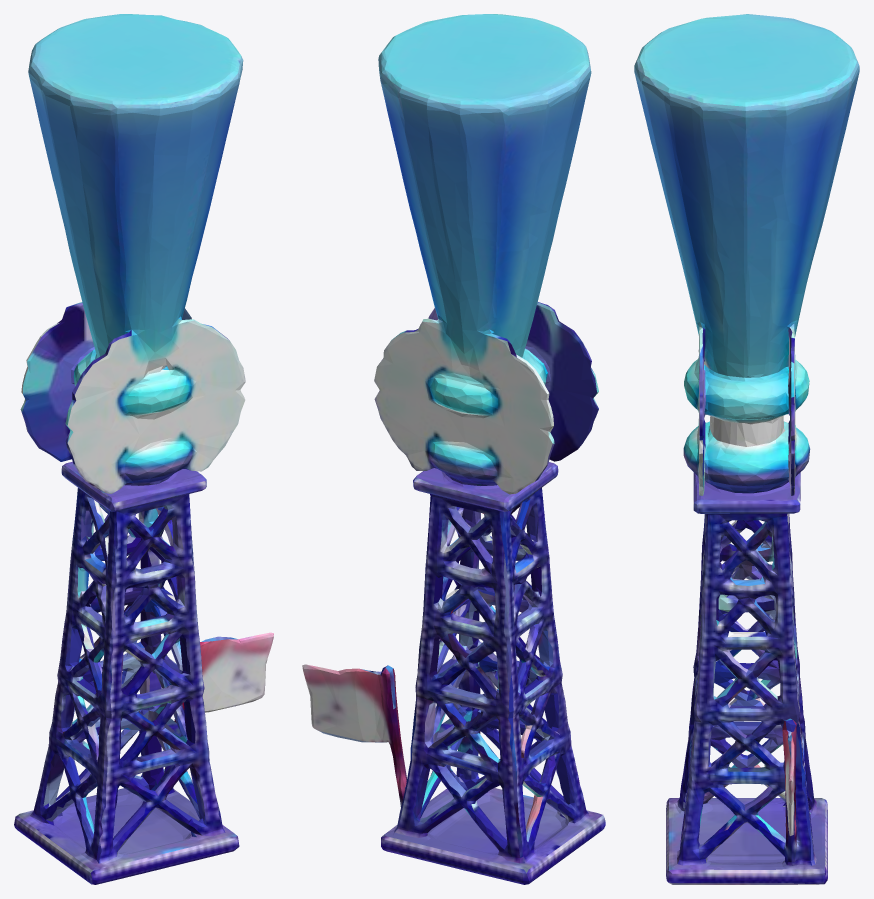
File: summit_beacon.glb
The picture shows the model from 3 angles, left to right: view 1: azimuth 30°, elevation 25°; view 2: azimuth 150°, elevation 25°; view 3: azimuth 270°, elevation 25°; orthographic projection.
Parts seen in each view (by area): view 1: tmpsderycm9.ply; view 2: tmpsderycm9.ply; view 3: tmpsderycm9.ply.
Part boxes in pixels (box(x1,y1,x2,y2)): tmpsderycm9.ply: box(14, 14, 273, 884); tmpsderycm9.ply: box(302, 14, 605, 884); tmpsderycm9.ply: box(634, 14, 859, 884).
Size of the model in its own units: 0.6763 by 1.99 by 0.5111.
Materials: 1 (1 with a texture image).
